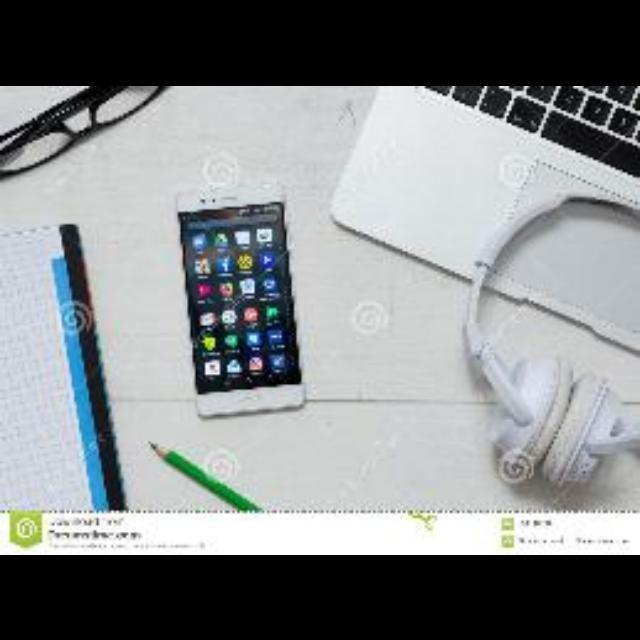Phone: (177, 183, 307, 417)
